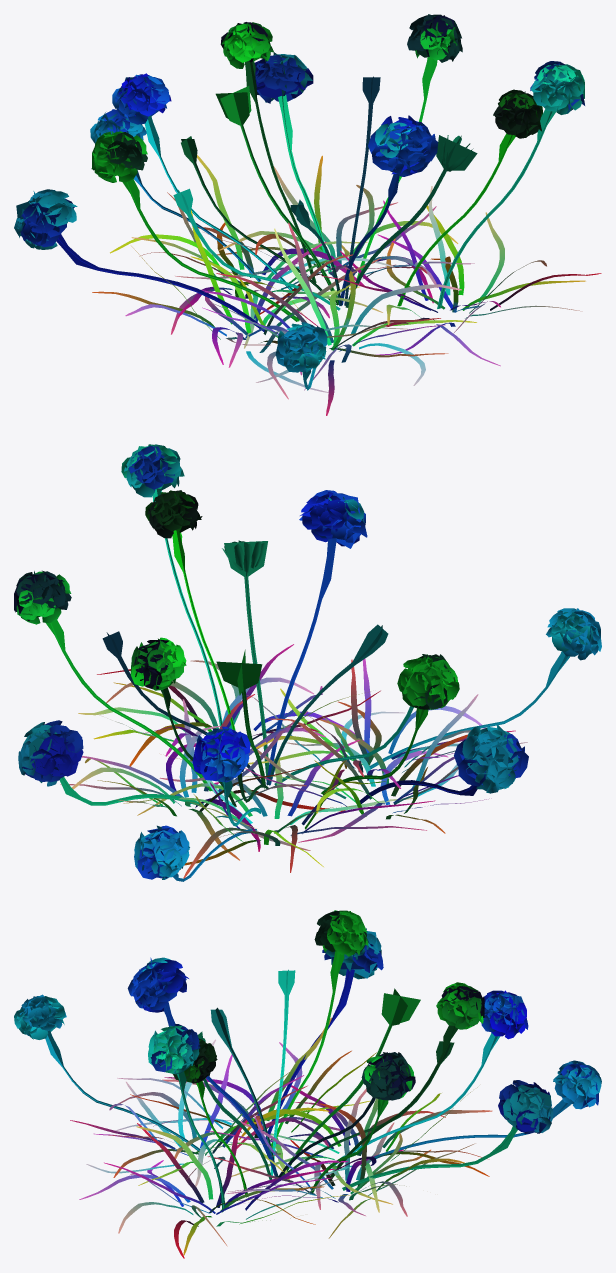
Rendered from Sea_Thrift_vkbgaihha_High_vkbgaihha_VarE_LOD0.fbx.
The picture shows the model from 3 angles, top to bottom: view 1: azimuth 30°, elevation 25°; view 2: azimuth 150°, elevation 25°; view 3: azimuth 270°, elevation 25°; orthographic projection. The views are drawn at different scales.
Visible parts, largest first — view 1: _jwhe_VarE_LOD0; view 2: _jwhe_VarE_LOD0; view 3: _jwhe_VarE_LOD0.
Boxes of the visible parts, box(x1,y1,x2,y2) form: _jwhe_VarE_LOD0: box(14, 14, 601, 415); _jwhe_VarE_LOD0: box(14, 444, 601, 881); _jwhe_VarE_LOD0: box(14, 910, 601, 1258).
Size of the model in its own units: 31.29 by 14.91 by 34.65.
